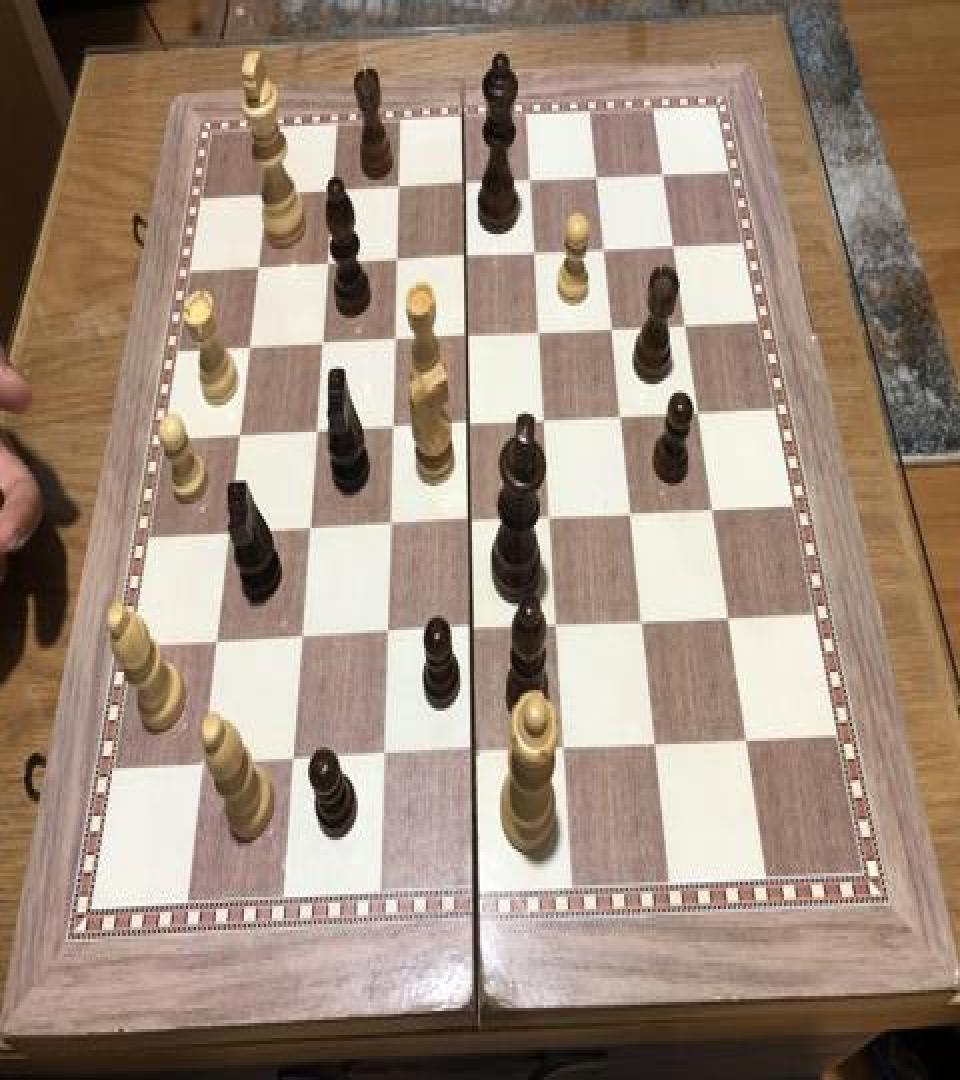xcorner: (290, 622, 314, 659), (371, 739, 395, 776), (192, 748, 216, 785), (651, 156, 675, 192), (584, 160, 608, 196), (518, 165, 542, 201), (451, 170, 475, 206), (320, 177, 344, 213), (254, 182, 278, 218), (662, 228, 686, 264), (592, 232, 616, 268), (522, 237, 546, 273), (453, 242, 477, 278), (384, 246, 408, 282), (315, 249, 339, 285), (246, 254, 270, 290), (673, 306, 697, 342), (600, 310, 624, 346), (527, 315, 551, 351), (454, 320, 478, 356), (382, 324, 406, 360), (238, 333, 262, 369), (687, 394, 711, 430), (609, 399, 633, 435), (532, 404, 556, 440), (456, 408, 480, 444), (304, 417, 328, 453), (228, 422, 252, 458), (701, 490, 725, 526), (619, 495, 643, 531), (538, 501, 562, 537), (458, 506, 482, 542), (377, 510, 401, 546), (297, 513, 321, 549), (218, 518, 242, 554), (717, 600, 741, 636), (631, 604, 655, 640), (545, 609, 569, 645), (459, 614, 483, 650), (374, 618, 398, 654), (206, 627, 230, 663), (735, 722, 759, 758), (644, 726, 668, 762), (552, 730, 576, 766), (462, 735, 486, 771), (282, 744, 306, 780), (385, 173, 409, 208), (310, 329, 334, 364), (380, 413, 404, 448)
